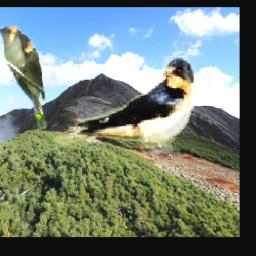Cuckoo: (0, 23, 47, 133)
Swallow: (54, 56, 197, 153)
